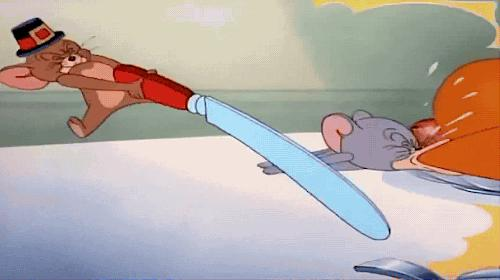jerry: (1, 19, 160, 140)
